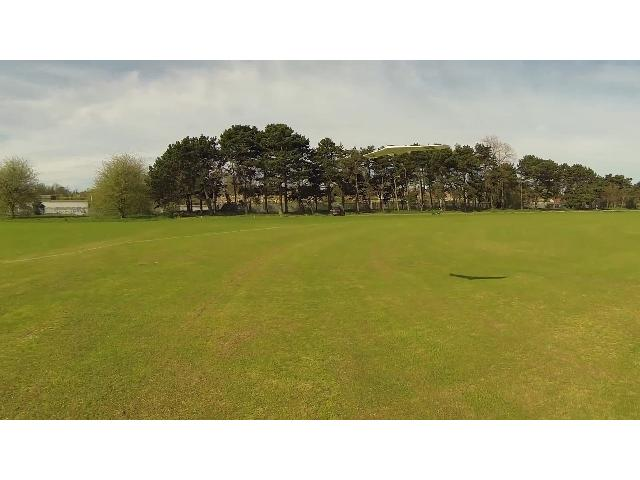Anti-Drone: (344, 134, 460, 174)
